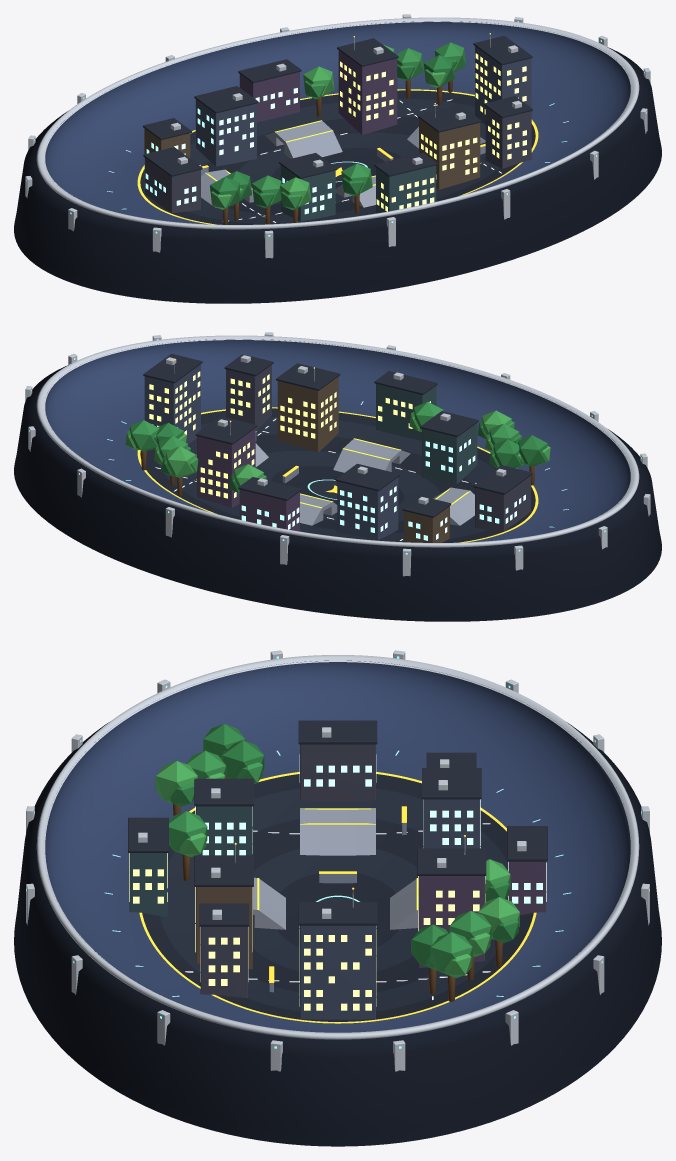
Rendered from arena.glb.
The picture shows the model from 3 angles, top to bottom: view 1: azimuth 30°, elevation 25°; view 2: azimuth 150°, elevation 25°; view 3: azimuth 270°, elevation 25°; orthographic projection. The views are drawn at different scales.
Parts seen in each view (by area): view 1: Skirt, Rim.002, Lip, Floor 4, Building 1, Building 0, Building 3, Floor 2, Building 5, Floor 5, Building 9, Floor 3 (+33 smaller); view 2: Skirt, Rim.002, Lip, Floor 4, Building 3, Building 0, Building 1, Building 5, Floor 2, Building 2, Floor 5, Building 9 (+31 smaller); view 3: Rim.002, Skirt, Lip, Floor 4, Floor 2, Building 5, Floor 5, Floor 3, Building 4, Tunnel Roof 2, Floor 1, Building 9 (+29 smaller).
Part boxes in pixels (x1,y1,x2,y2): Skirt: (14, 47, 661, 303); Rim.002: (45, 21, 630, 224); Lip: (36, 17, 639, 229); Floor 4: (187, 98, 499, 223); Building 1: (338, 50, 397, 134); Building 0: (195, 99, 256, 166); Building 3: (419, 118, 480, 189); Floor 2: (238, 132, 418, 203); Building 5: (475, 46, 531, 124); Floor 5: (140, 90, 535, 224); Building 9: (485, 107, 531, 168); Floor 3: (204, 116, 418, 214); Skirt: (14, 365, 661, 621); Rim.002: (45, 339, 630, 542); Lip: (36, 335, 639, 547); Floor 4: (158, 417, 494, 541); Building 3: (277, 376, 338, 452); Building 0: (337, 477, 398, 539); Building 1: (197, 428, 255, 507); Building 5: (144, 364, 200, 444); Floor 2: (255, 450, 440, 521); Building 2: (422, 423, 477, 483); Floor 5: (140, 408, 535, 542); Building 9: (226, 365, 271, 429); Rim.002: (45, 660, 630, 1038); Skirt: (14, 722, 661, 1146); Lip: (36, 655, 639, 1039); Floor 4: (160, 788, 507, 1011); Floor 2: (253, 849, 417, 971); Building 5: (300, 925, 375, 1019); Floor 5: (142, 774, 533, 1021); Floor 3: (248, 819, 428, 992); Building 4: (300, 744, 375, 800); Tunnel Roof 2: (300, 808, 375, 855); Floor 1: (277, 873, 398, 947); Building 9: (200, 926, 247, 997).
Size of the model in its own units: 103 by 18.72 by 68.4.
